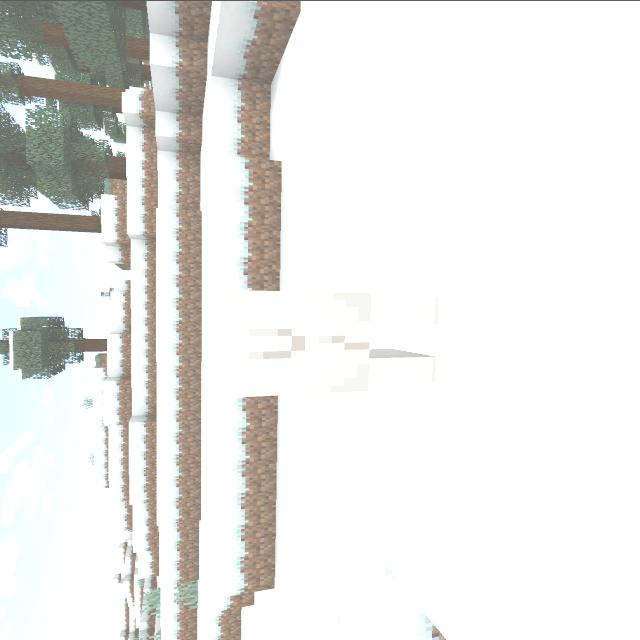Polar Bear: (186, 282, 463, 408)
